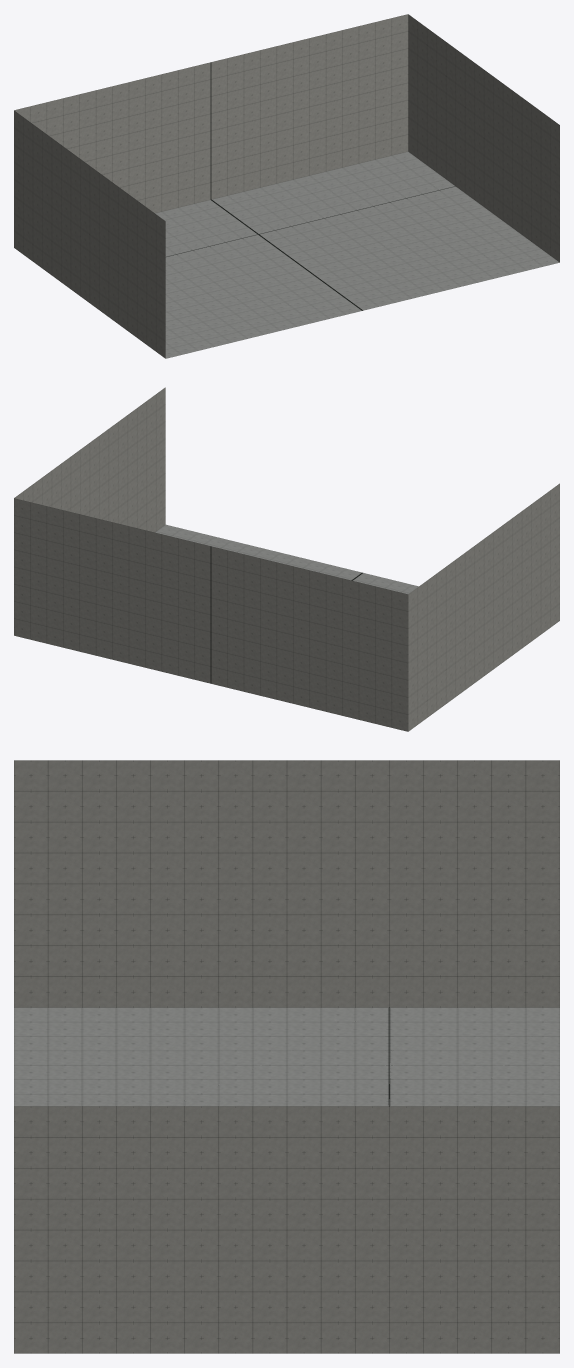
File: SF6_TrainingRoom_Optimized.fbx
3 renders of one model, top to bottom at view 1: azimuth 30°, elevation 25°; view 2: azimuth 150°, elevation 25°; view 3: azimuth 270°, elevation 25°, orthographic. The views are drawn at different scales.
Parts seen in each view (by area): view 1: TR_Room_Game; view 2: TR_Room_Game; view 3: TR_Room_Game.
Part boxes in pixels (bbox=[...]): TR_Room_Game: bbox=[14, 14, 559, 358]; TR_Room_Game: bbox=[14, 387, 559, 731]; TR_Room_Game: bbox=[14, 760, 559, 1353].
Bounding box in the file's own units: 2400 × 800 × 1600.
